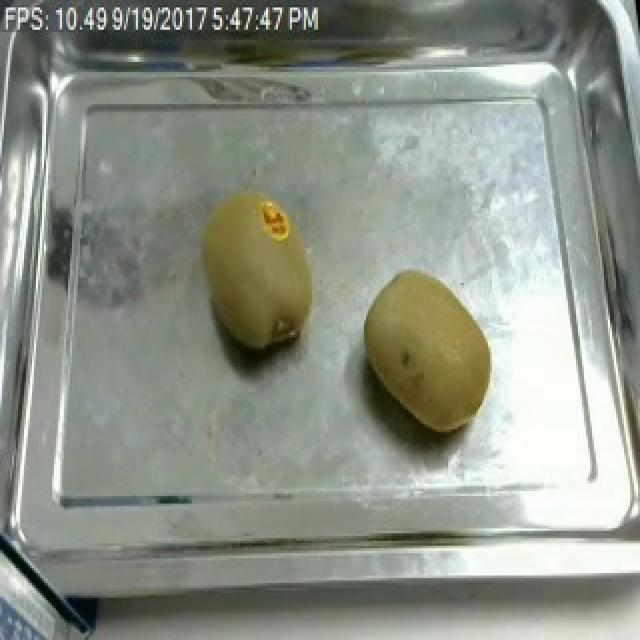Fruit: (354, 260, 504, 442), (194, 178, 326, 360)
